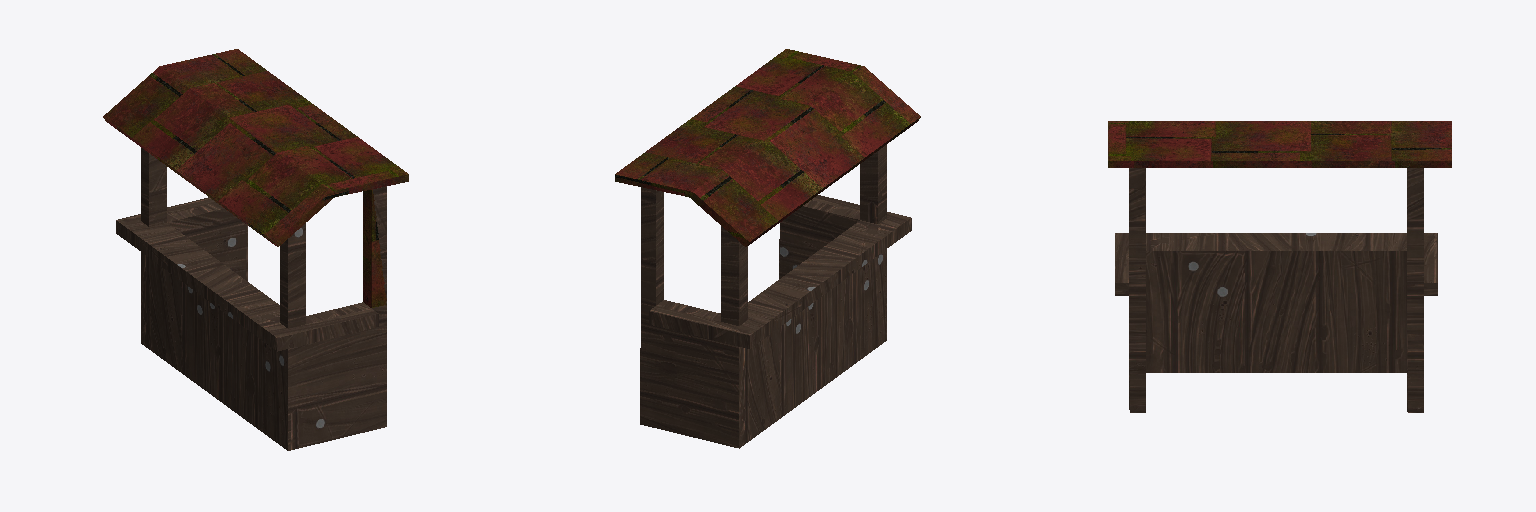
3 views of the same model, side by side, from view 1: azimuth 30°, elevation 25°; view 2: azimuth 150°, elevation 25°; view 3: azimuth 270°, elevation 25° (orthographic).
Parts seen in each view (by area): view 1: pCube28; view 2: pCube28; view 3: pCube28.
Boxes of the visible parts, <box> form: pCube28: <box>103,49,408,450</box>; pCube28: <box>615,49,920,448</box>; pCube28: <box>1108,121,1451,412</box>.
Bounding box in the file's own units: 0.266 × 0.4887 × 0.587.
1 materials, 1 textured.